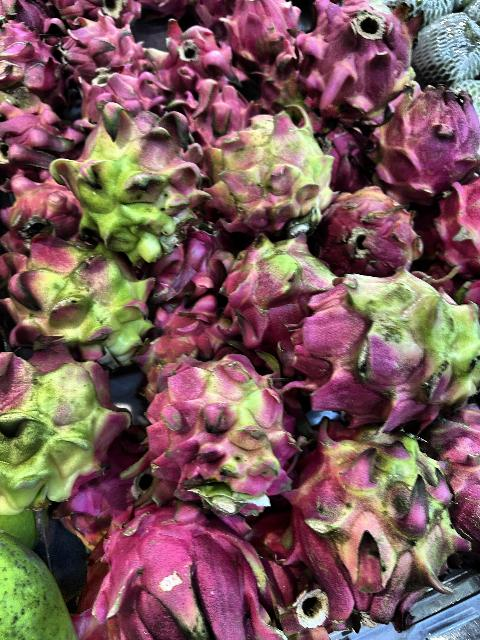buah-naga-belum-matang: (296, 422, 466, 626), (282, 278, 480, 416), (146, 354, 298, 520), (66, 94, 202, 260), (1, 342, 132, 502), (4, 226, 148, 358), (196, 105, 330, 231), (213, 236, 352, 324), (253, 44, 307, 116)
buah-naga-matang: (93, 496, 269, 640), (294, 0, 422, 110), (377, 76, 476, 184), (319, 180, 413, 272), (428, 412, 480, 560), (143, 302, 239, 380), (144, 19, 238, 85), (52, 16, 154, 76), (0, 26, 70, 106), (426, 173, 480, 275), (0, 104, 72, 180), (0, 175, 80, 242), (218, 0, 304, 60), (152, 236, 226, 288), (76, 70, 158, 116), (50, 0, 144, 28)
